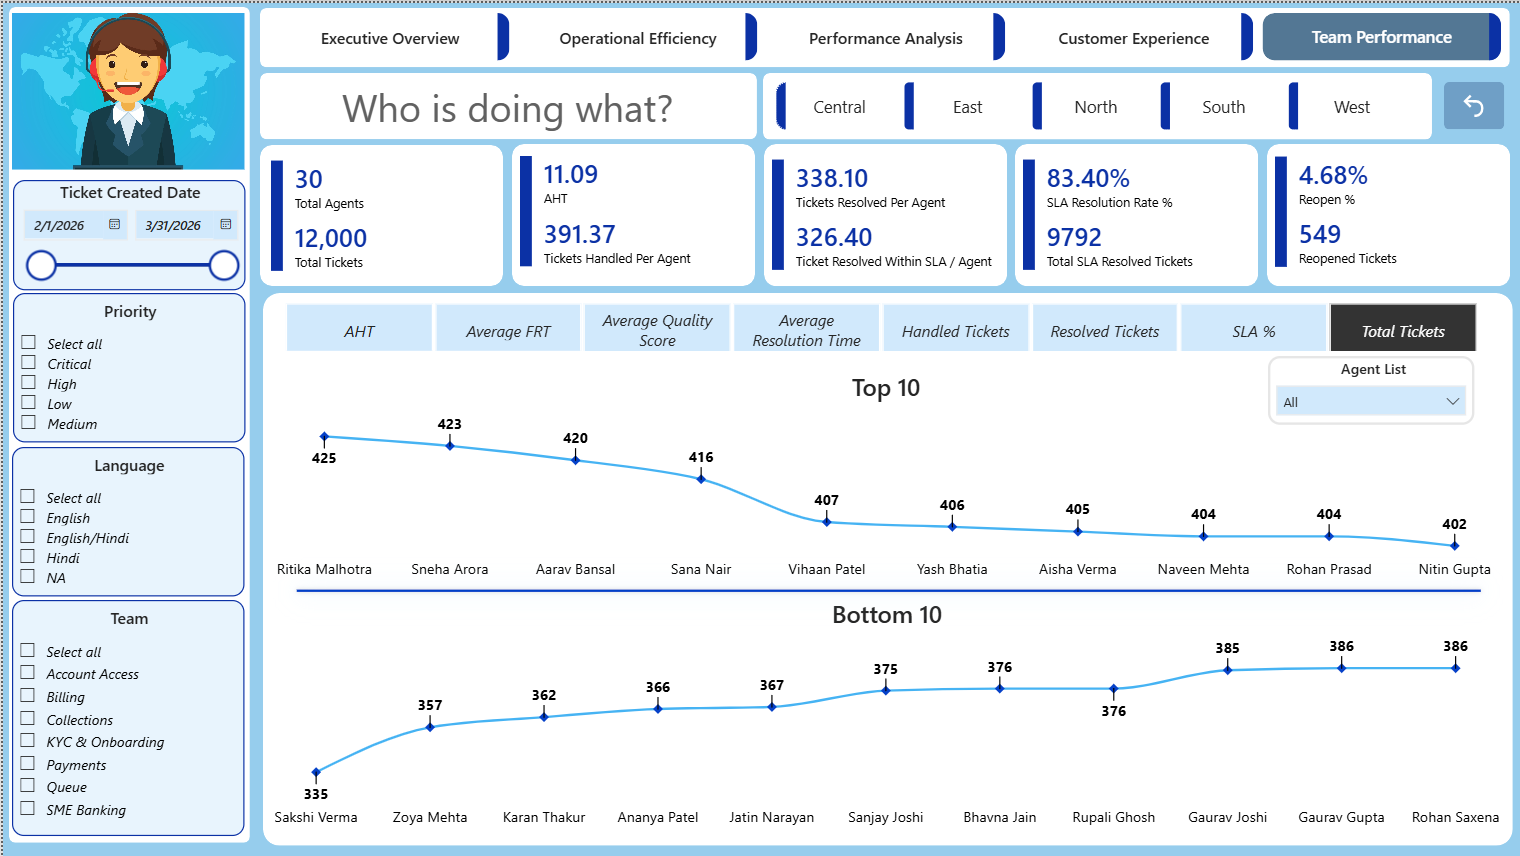

The page's visual inventory and layout, read from the dashboard file:
{"tool":"powerbi","page":{"name":"Team Performance","canvas":[1280,720],"ordinal":5},"visuals":[{"type":"shape","box":[5.4,3.6,203.1,704.6],"z":0,"group":"g9"},{"type":"shape","box":[216.7,4.5,1053.7,49.9],"z":0,"group":"g7"},{"type":"shape","box":[216.7,58.9,418.9,55.9],"z":0,"group":"g6"},{"type":"shape","box":[641.1,58.9,564,56.2],"z":0,"group":"g8"},{"type":"shape","box":[429.1,118.9,204.9,119.7],"z":0,"group":"g2"},{"type":"shape","box":[641.2,119.1,205,120],"z":0,"group":"g3"},{"type":"shape","box":[853.5,119.1,205,120],"z":0,"group":"g4"},{"type":"shape","box":[1065.8,119.1,205,120],"z":0,"group":"g5"},{"type":"shape","box":[216.7,119.7,204.9,118.9],"z":0,"group":"g1"},{"type":"group","id":"g1","title":"SLA & Avg Q Score ","box":[216.7,119.7,204.9,118.9],"z":0},{"type":"shape","box":[218.5,244.8,1053.7,466.1],"z":0,"group":"g10"},{"type":"pageNavigator","box":[225.8,9,1040.1,40.8],"z":1000,"group":"g7"},{"type":"textbox","box":[220.5,65.1,410.8,42.8],"z":1000,"group":"g6"},{"type":"advancedSlicerVisual","fields":{"Values":["Call_Center_View.Customer_Region"]},"box":[651.1,65.2,543.2,42.6],"z":1000,"group":"g8"},{"type":"group","id":"g2","title":"Total Tickets & AHT","box":[429.1,118.9,204.9,119.7],"z":1000},{"type":"multiRowCard","fields":{"Values":["Measures Table.Reopen %","Measures Table.Reopened Tickets"]},"box":[1072.7,126.6,191.4,106.2],"z":1000,"group":"g5"},{"type":"multiRowCard","fields":{"Values":["Measures Table.AHT","Measures Table.Average Tickets Handled Per Agent"]},"box":[436,128.9,189.9,99.8],"z":1000,"group":"g2"},{"type":"multiRowCard","fields":{"Values":["Measures Table.Average Tickets Resolved Per Agent","Measures Table.Average SLA Resolved Ticket Per Agent"]},"box":[648.1,129.1,190,100],"z":1000,"group":"g3"},{"type":"multiRowCard","fields":{"Values":["Measures Table.SLA Resolution Rate %","Measures Table.Total SLA Resolved Tickets"]},"box":[860.4,129.1,190,100],"z":1000,"group":"g4"},{"type":"multiRowCard","fields":{"Values":["Measures Table.Total Agents","Measures Table.Total Tickets"]},"box":[225.9,129.6,189.9,99.1],"z":1000,"group":"g1"},{"type":"slicer","fields":{"Values":["KPI Selector.KPI"]},"box":[217.1,251.3,1043.7,41.7],"z":1000,"group":"g10"},{"type":"listSlicer","fields":{"Values":["Call_Center_View.Language"]},"box":[8.3,374.5,195.9,126],"z":1000,"group":"g9"},{"type":"group","id":"g3","title":"Handled & Resolved Tickets","box":[641.2,119.1,205,120],"z":2000},{"type":"slicer","title":"Ticket Created Date","fields":{"Values":["Call_Center_View.Created Date"]},"box":[8.4,149.2,195.6,92.7],"z":2000,"group":"g9"},{"type":"areaChart","title":"Top 10","fields":{"Category":["Call_Center_View.Agent_Name"],"Y":["Measures Table.Selected KPI Parameter"]},"box":[222.1,304.6,1043.7,191.3],"z":2000,"group":"g10"},{"type":"group","id":"g4","title":"Pending & Abandoned Tickets","box":[853.5,119.1,205,120],"z":3000},{"type":"lineChart","title":"Bottom 10","fields":{"Category":["Call_Center_View.Agent_Name"],"Y":["Measures Table.Selected KPI Parameter"]},"box":[222.1,496,1045.5,208.6],"z":3000,"group":"g10"},{"type":"listSlicer","fields":{"Values":["Call_Center_View.Team"]},"box":[8.3,503.6,195.9,198.6],"z":3000,"group":"g9"},{"type":"group","id":"g5","title":"Open & Reopened Tickets","box":[1065.8,119.1,205,120],"z":4000},{"type":"listSlicer","fields":{"Values":["Call_Center_View.Priority"]},"box":[8.5,245,195.6,126.5],"z":4000,"group":"g9"},{"type":"shape","box":[227.6,420.7,1038.3,149.6],"z":4000,"group":"g10"},{"type":"image","box":[8.1,9,195.9,132.4],"z":5000,"group":"g9"},{"type":"group","id":"g6","title":"What's happening ?","box":[216.7,58.9,418.9,55.3],"z":5000},{"type":"slicer","title":"Agent List","fields":{"Values":["Call_Center_View.Agent_Name"]},"box":[1066.4,298.3,174.1,58],"z":5000,"group":"g10"},{"type":"group","id":"g7","title":"Page Navigator","box":[216.7,4.5,1053.7,49.9],"z":6000},{"type":"group","id":"g8","title":"Customer Region","box":[641.1,58.9,564,56.2],"z":7000},{"type":"actionButton","title":"Reset  All Filters","box":[1215.1,66.2,50.8,39.9],"z":8000},{"type":"group","id":"g9","title":"Left Filter Pane","box":[5.4,3.6,203.1,704.6],"z":9000},{"type":"group","id":"g10","title":"Top & Bottom 10 Agents","box":[217.1,244.8,1055.1,466.1],"z":10000}]}

Visuals, with their boxes in screenshot pixels (x1, y1, x2, y2), scaled from the page's 1280x720 canvas onto the 1520x856 screenshot:
shape: box(6, 4, 248, 842)
shape: box(257, 5, 1509, 65)
shape: box(257, 70, 755, 136)
shape: box(761, 70, 1431, 137)
shape: box(510, 141, 753, 284)
shape: box(761, 142, 1005, 284)
shape: box(1014, 142, 1257, 284)
shape: box(1266, 142, 1509, 284)
shape: box(257, 142, 501, 284)
"SLA & Avg Q Score " group: box(257, 142, 501, 284)
shape: box(259, 291, 1511, 845)
pageNavigator: box(268, 11, 1503, 59)
textbox: box(262, 77, 750, 128)
advancedSlicerVisual - Call_Center_View.Customer_Region: box(773, 78, 1418, 128)
"Total Tickets & AHT" group: box(510, 141, 753, 284)
multiRowCard - Measures Table.Reopen % x Measures Table.Reopened Tickets: box(1274, 151, 1501, 277)
multiRowCard - Measures Table.AHT x Measures Table.Average Tickets Handled Per Agent: box(518, 153, 743, 272)
multiRowCard - Measures Table.Average Tickets Resolved Per Agent x Measures Table.Average SLA Resolved Ticket Per Agent: box(770, 153, 995, 272)
multiRowCard - Measures Table.SLA Resolution Rate % x Measures Table.Total SLA Resolved Tickets: box(1022, 153, 1247, 272)
multiRowCard - Measures Table.Total Agents x Measures Table.Total Tickets: box(268, 154, 494, 272)
slicer - KPI Selector.KPI: box(258, 299, 1497, 348)
listSlicer - Call_Center_View.Language: box(10, 445, 242, 595)
"Handled & Resolved Tickets" group: box(761, 142, 1005, 284)
"Ticket Created Date" slicer: box(10, 177, 242, 288)
"Top 10" areaChart: box(264, 362, 1503, 590)
"Pending & Abandoned Tickets" group: box(1014, 142, 1257, 284)
"Bottom 10" lineChart: box(264, 590, 1505, 838)
listSlicer - Call_Center_View.Team: box(10, 599, 242, 835)
"Open & Reopened Tickets" group: box(1266, 142, 1509, 284)
listSlicer - Call_Center_View.Priority: box(10, 291, 242, 442)
shape: box(270, 500, 1503, 678)
image: box(10, 11, 242, 168)
"What's happening ?" group: box(257, 70, 755, 136)
"Agent List" slicer: box(1266, 355, 1473, 424)
"Page Navigator" group: box(257, 5, 1509, 65)
"Customer Region" group: box(761, 70, 1431, 137)
"Reset  All Filters" actionButton: box(1443, 79, 1503, 126)
"Left Filter Pane" group: box(6, 4, 248, 842)
"Top & Bottom 10 Agents" group: box(258, 291, 1511, 845)
